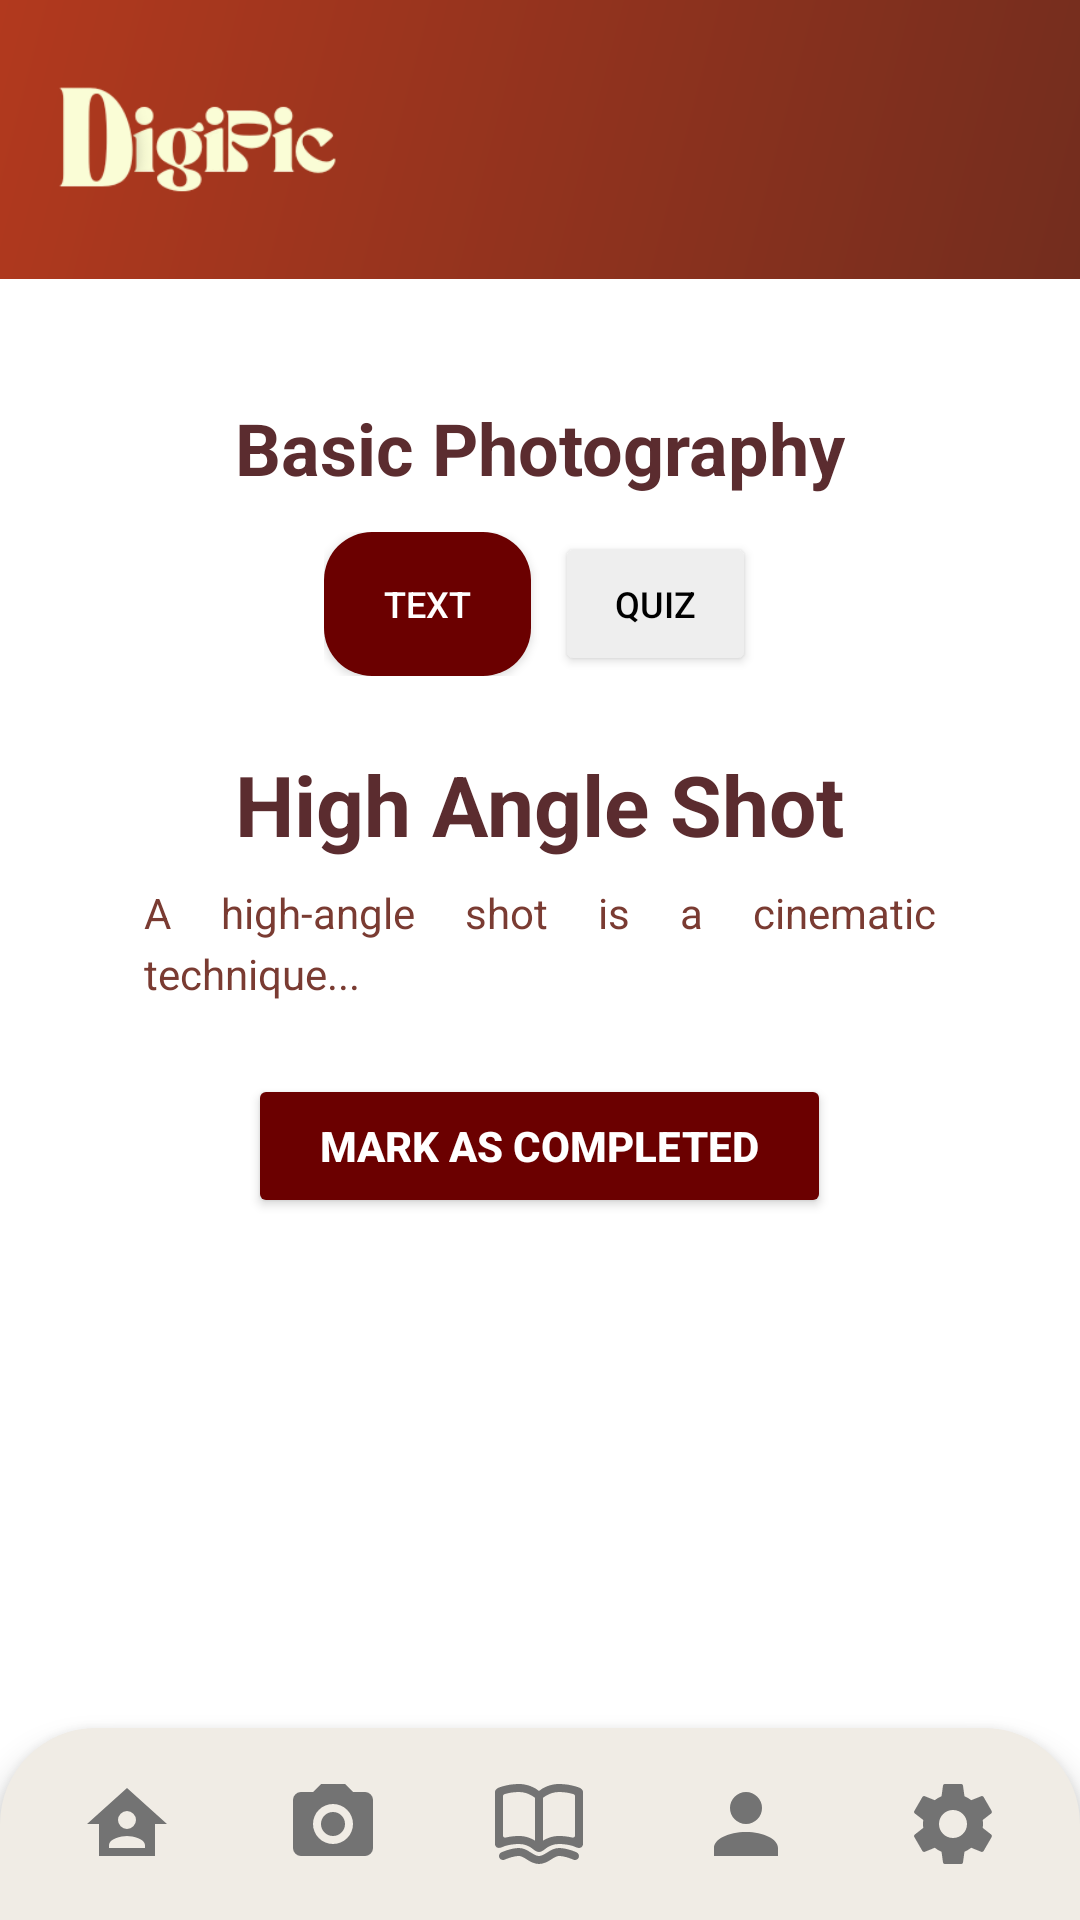

Named icons in this screenshot (1080x1920) and their bounding boxes, (left=x1, top=y1, right=x2, bottom=y2):
Home: (left=87, top=1788, right=167, bottom=1856)
Profile: (left=714, top=1792, right=778, bottom=1856)
Settings: (left=914, top=1784, right=992, bottom=1864)
